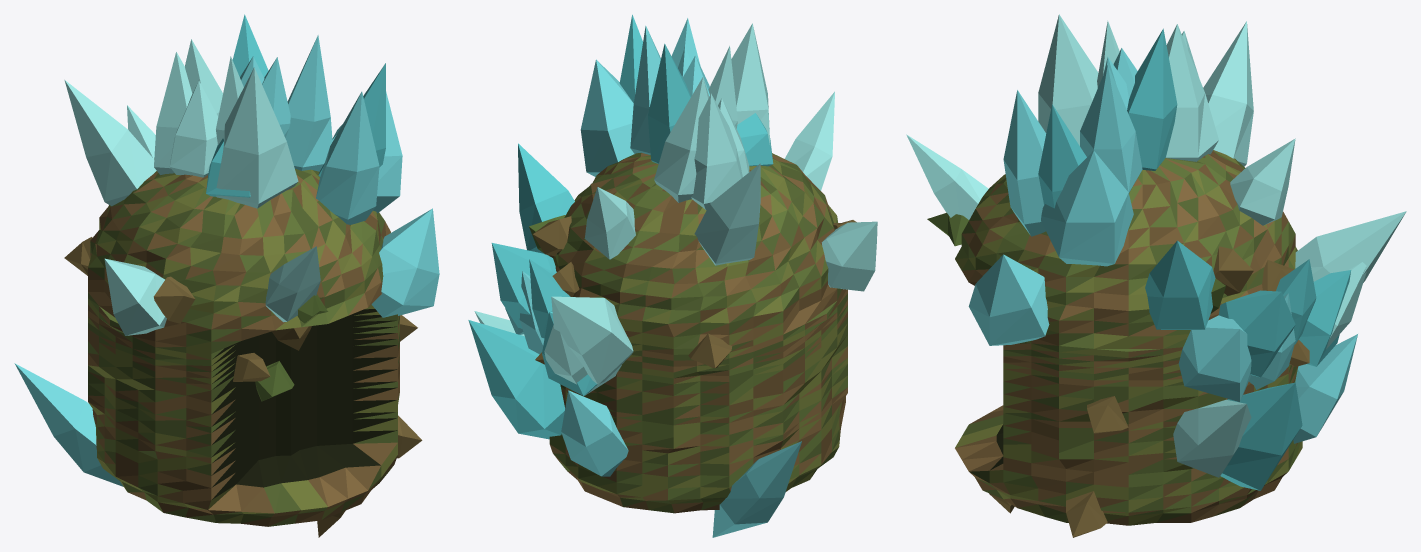
The model's file is B08_5_verdant_crystal_helm.obj.
3 views of the same model, side by side, from view 1: azimuth 30°, elevation 25°; view 2: azimuth 150°, elevation 25°; view 3: azimuth 270°, elevation 25° (orthographic). The views are drawn at different scales.
Visible parts, largest first — view 1: B08_5_verdant_crystal_helm; view 2: B08_5_verdant_crystal_helm; view 3: B08_5_verdant_crystal_helm.
Boxes of the visible parts, x1,y1,x2,y2 form: B08_5_verdant_crystal_helm: [14, 14, 439, 537]; B08_5_verdant_crystal_helm: [468, 14, 877, 537]; B08_5_verdant_crystal_helm: [906, 14, 1406, 537].
Size of the model in its own units: 59 by 79 by 72.
